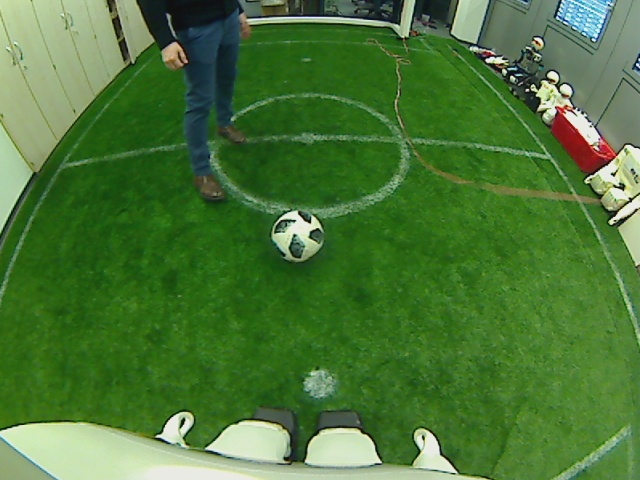ball: (271, 208, 325, 262)
